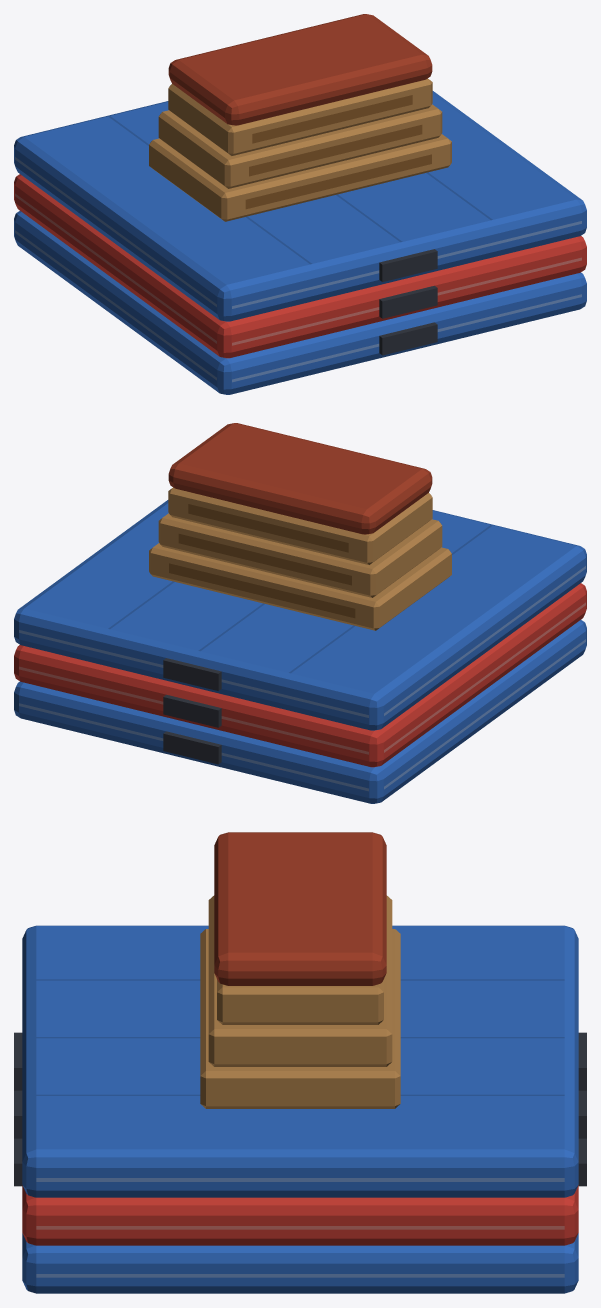
The model's file is school-block.glb.
3 views of the same model, one above another, from view 1: azimuth 30°, elevation 25°; view 2: azimuth 150°, elevation 25°; view 3: azimuth 270°, elevation 25° (orthographic). The views are drawn at different scales.
Parts seen in each view (by area): view 1: school-block; view 2: school-block; view 3: school-block.
Part boxes in pixels (<box>): school-block: <box>14,14,586,394</box>; school-block: <box>14,423,586,803</box>; school-block: <box>14,832,586,1293</box>.
Bounding box in the file's own units: 2 × 1.14 × 2.06.
